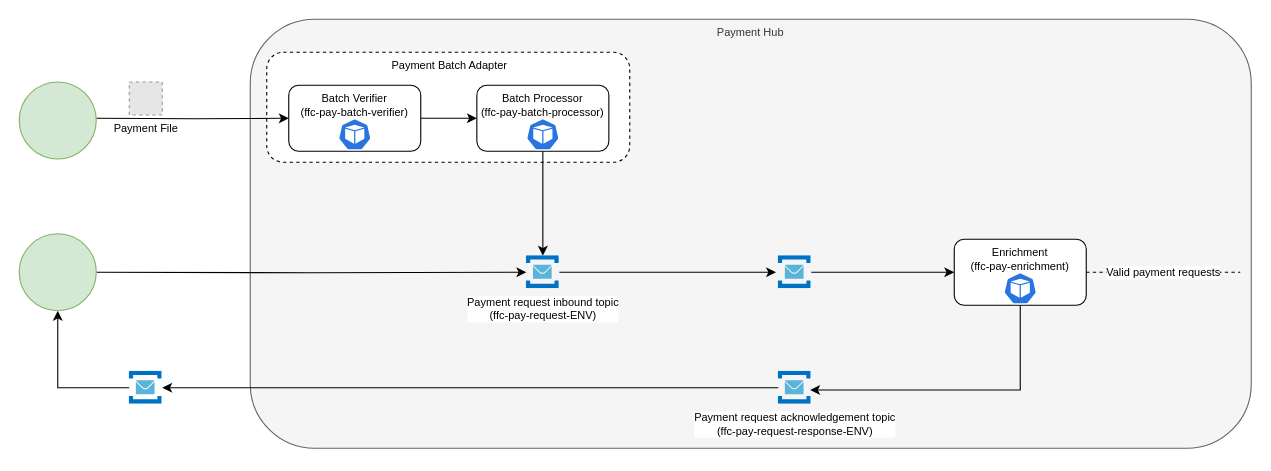
Some shapes in this 1271 by 471 pixel diagram are drawn without their labels. Grey dashed boxes stand in for pictures. The shapes that lost their labels are listed below. From the top down, each one's centre as x and y in pixels, then its label:
At (57,120): "Payment Batch Entry".
At (57,272): "Payment Transaction Entry".
At (794,271): "Enrichment subscription (ffc-pay-enrichment)".
At (145,387): "Subscription (Source specific) Correlation filter on subject = source system".
